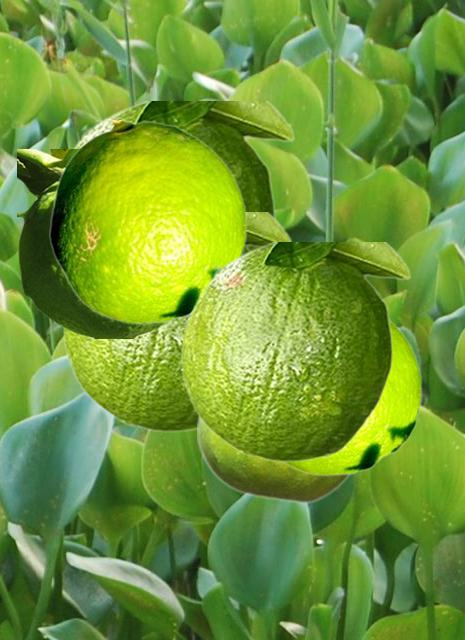dalandan: (62, 212, 292, 431), (180, 242, 410, 461), (49, 120, 246, 323), (69, 101, 294, 248), (17, 149, 175, 337), (279, 320, 421, 475), (197, 418, 352, 503)
